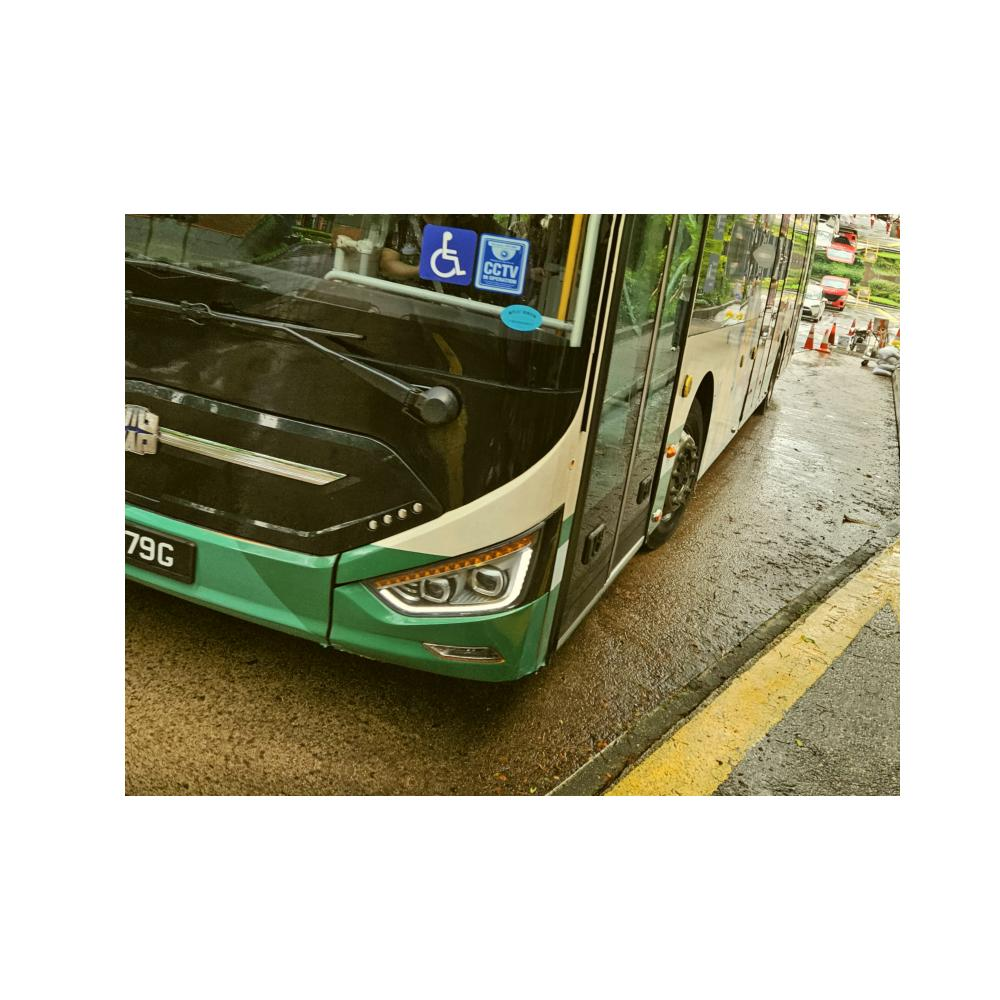bus: (126, 211, 824, 715)
